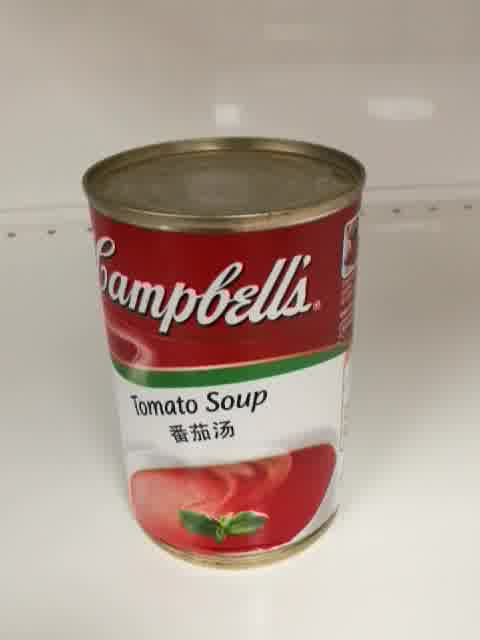tomatosoup: (79, 134, 366, 573)
